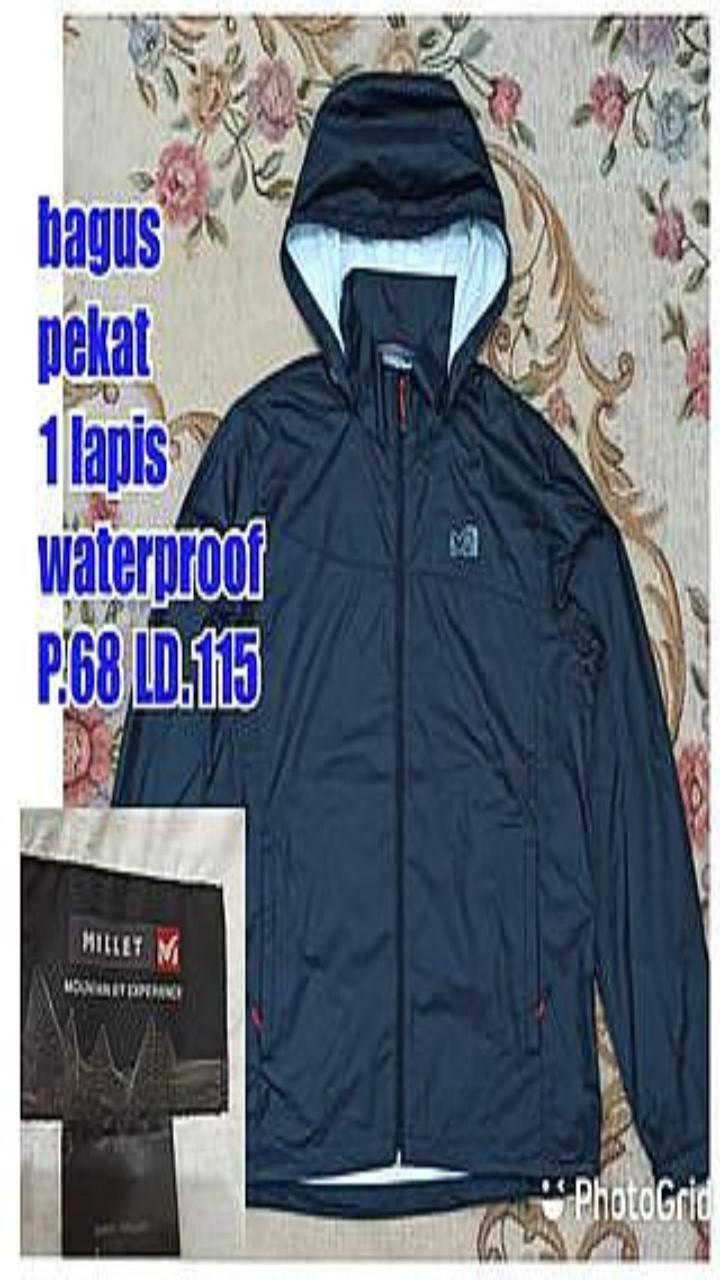Sports_Jacket: (114, 73, 708, 1215)
